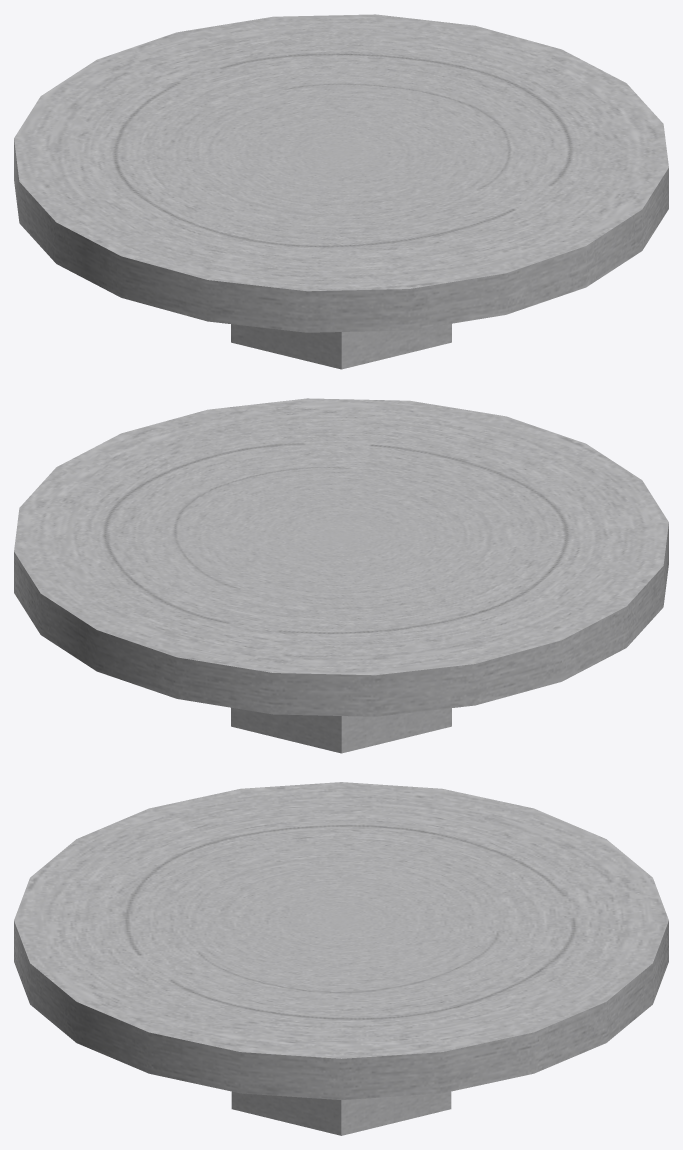
File: spinner.glb
3 views of the same model, one above another, from view 1: azimuth 30°, elevation 25°; view 2: azimuth 150°, elevation 25°; view 3: azimuth 270°, elevation 25° (orthographic).
Visible parts, largest first — view 1: pCylinder7; view 2: pCylinder7; view 3: pCylinder7.
Part boxes in pixels (x1,y1,x2,y2): pCylinder7: (14, 14, 668, 369); pCylinder7: (14, 398, 668, 753); pCylinder7: (14, 782, 668, 1135).
Bounding box in the file's own units: 0.4005 × 0.1092 × 0.4005.
Materials: 1 (1 with a texture image).
